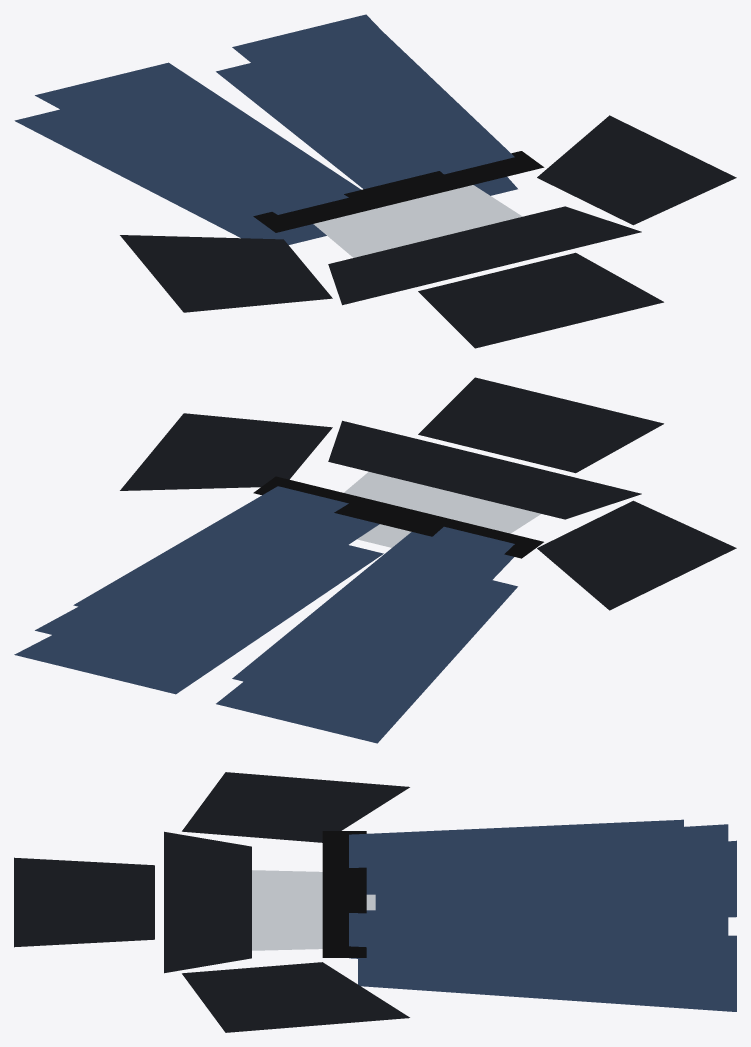
Rendered from noctis-drape-hoodie.obj.
3 views of the same model, one above another, from view 1: azimuth 30°, elevation 25°; view 2: azimuth 150°, elevation 25°; view 3: azimuth 270°, elevation 25° (orthographic). The views are drawn at different scales.
Visible parts, largest first — view 1: split_drape_gate_L, split_drape_gate_R, hood_shell, shoulder_yoke, sleeve_L, sleeve_R, drape_front_R, drape_front_L, drape_back_L, inner_top, drape_back_R, waist_harness; view 2: split_drape_gate_R, split_drape_gate_L, drape_front_R, hood_shell, shoulder_yoke, sleeve_L, drape_front_L, sleeve_R, drape_back_R, drape_back_L, inner_top, waist_harness; view 3: drape_front_L, split_drape_gate_R, split_drape_gate_L, drape_back_R, hood_shell, shoulder_yoke, sleeve_R, sleeve_L, drape_front_R, drape_back_L, inner_top, waist_harness.
Boxes of the visible parts, x1=… form: split_drape_gate_L: x1=73, y1=76, x2=348, y2=214; split_drape_gate_R: x1=294, y1=22, x2=514, y2=174; hood_shell: x1=418, y1=252, x2=663, y2=348; shoulder_yoke: x1=328, y1=206, x2=641, y2=305; sleeve_L: x1=120, y1=235, x2=332, y2=312; sleeve_R: x1=537, y1=115, x2=736, y2=225; drape_front_R: x1=232, y1=14, x2=439, y2=181; drape_front_L: x1=35, y1=62, x2=361, y2=215; drape_back_L: x1=14, y1=109, x2=326, y2=244; inner_top: x1=313, y1=185, x2=522, y2=257; drape_back_R: x1=216, y1=63, x2=517, y2=195; waist_harness: x1=253, y1=151, x2=544, y2=232; split_drape_gate_R: x1=73, y1=486, x2=348, y2=624; split_drape_gate_L: x1=294, y1=526, x2=514, y2=678; drape_front_R: x1=35, y1=513, x2=379, y2=663; hood_shell: x1=418, y1=377, x2=663, y2=473; shoulder_yoke: x1=328, y1=420, x2=641, y2=519; sleeve_L: x1=537, y1=500, x2=736, y2=610; drape_front_L: x1=232, y1=532, x2=513, y2=711; sleeve_R: x1=120, y1=413, x2=332, y2=490; drape_back_R: x1=14, y1=545, x2=383, y2=694; drape_back_L: x1=216, y1=580, x2=517, y2=743; inner_top: x1=344, y1=472, x2=540, y2=547; waist_harness: x1=253, y1=476, x2=543, y2=558; drape_front_L: x1=366, y1=824, x2=728, y2=894; split_drape_gate_R: x1=349, y1=913, x2=683, y2=961; split_drape_gate_L: x1=349, y1=819, x2=683, y2=867; drape_back_R: x1=358, y1=935, x2=736, y2=1011; hood_shell: x1=14, y1=857, x2=154, y2=947; shoulder_yoke: x1=164, y1=831, x2=251, y2=973; sleeve_R: x1=182, y1=962, x2=409, y2=1032; sleeve_L: x1=182, y1=772, x2=409, y2=842; drape_front_R: x1=349, y1=910, x2=728, y2=980; drape_back_L: x1=375, y1=840, x2=736, y2=917; inner_top: x1=252, y1=870, x2=375, y2=950; waist_harness: x1=322, y1=831, x2=366, y2=957.
Bounding box in the file's own units: 1.4 × 0.09 × 1.64.
